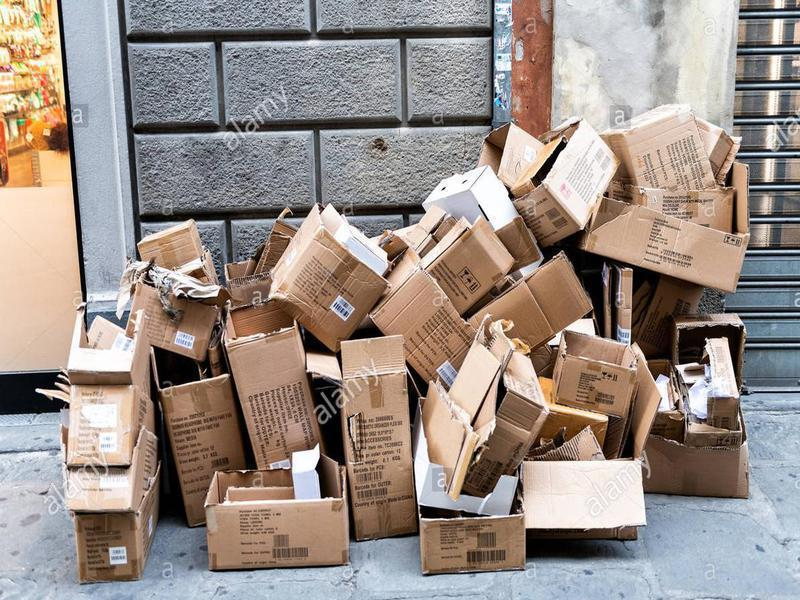cardboard: (426, 321, 546, 511), (651, 305, 758, 501), (198, 447, 356, 574), (265, 201, 398, 348), (335, 330, 421, 544), (219, 303, 327, 473), (585, 194, 759, 295), (509, 113, 624, 248), (597, 94, 752, 193), (37, 371, 168, 474), (518, 450, 651, 544), (57, 474, 168, 584), (415, 214, 520, 320), (121, 278, 221, 365), (413, 506, 526, 579), (59, 297, 152, 384), (546, 330, 644, 410), (416, 167, 521, 234), (130, 217, 216, 283)
